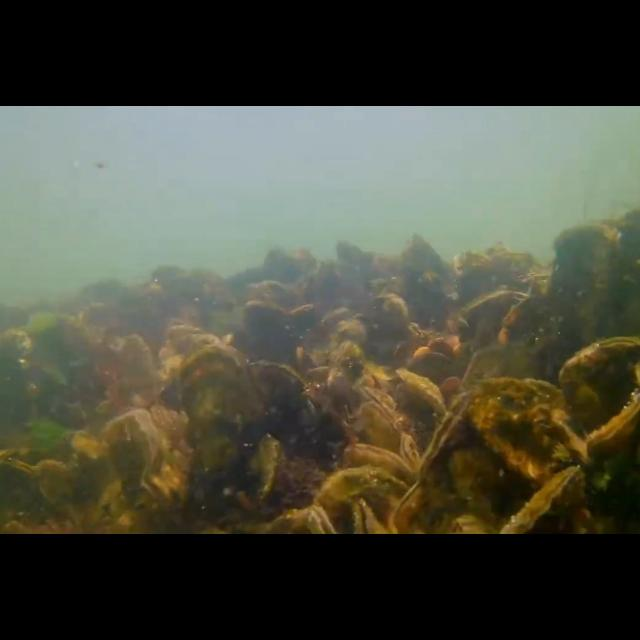Oyster-Closed: (389, 378, 571, 534), (156, 345, 264, 535), (242, 362, 352, 534), (558, 337, 640, 535), (550, 224, 624, 344), (498, 466, 586, 534), (464, 344, 534, 400), (356, 384, 410, 454), (396, 368, 448, 414)
Oyster-Open: (456, 289, 534, 349), (344, 438, 412, 486), (584, 390, 640, 446)
